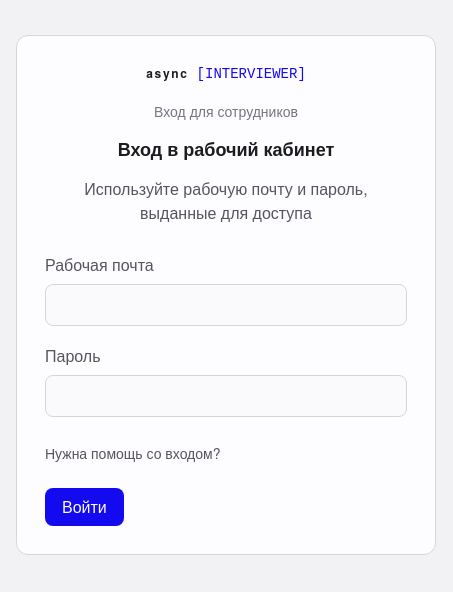
Test: LoginPage › shows a service-unreachable message on network failure
The width and height of the screenshot is (453, 592).
Type "expert@example.com" into the field labelled "Рабочая почта" at (226, 305), box [45, 284, 407, 326]
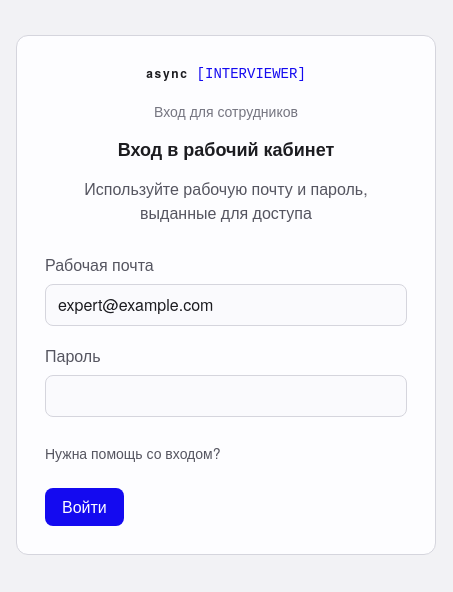
Type "TempPass123" into the password field labelled "Пароль" at (226, 396), box [45, 375, 407, 417]
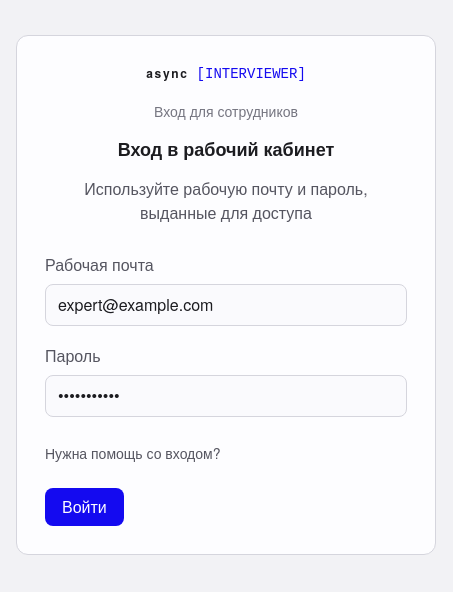
Submit the form "Рабочая почта Пароль Нужна помощь со входом? Войти", box [45, 253, 407, 526]
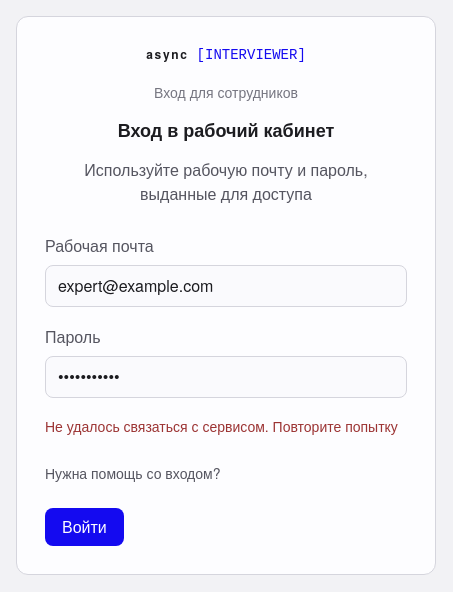
Check: the text "Не удалось связаться с сервисом. Повторите попытку" is shown, box [45, 416, 407, 436]
